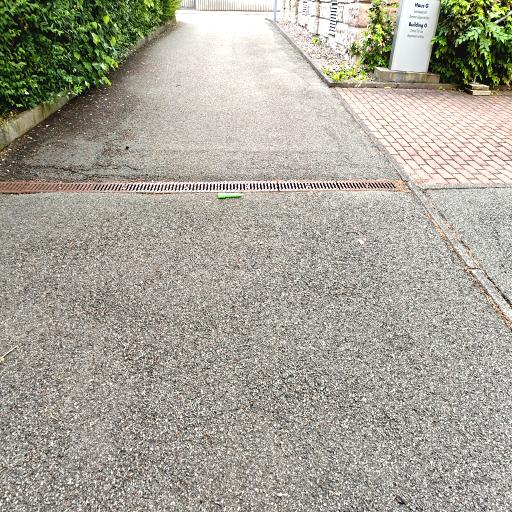Probe-Detection: (218, 192, 243, 199)
